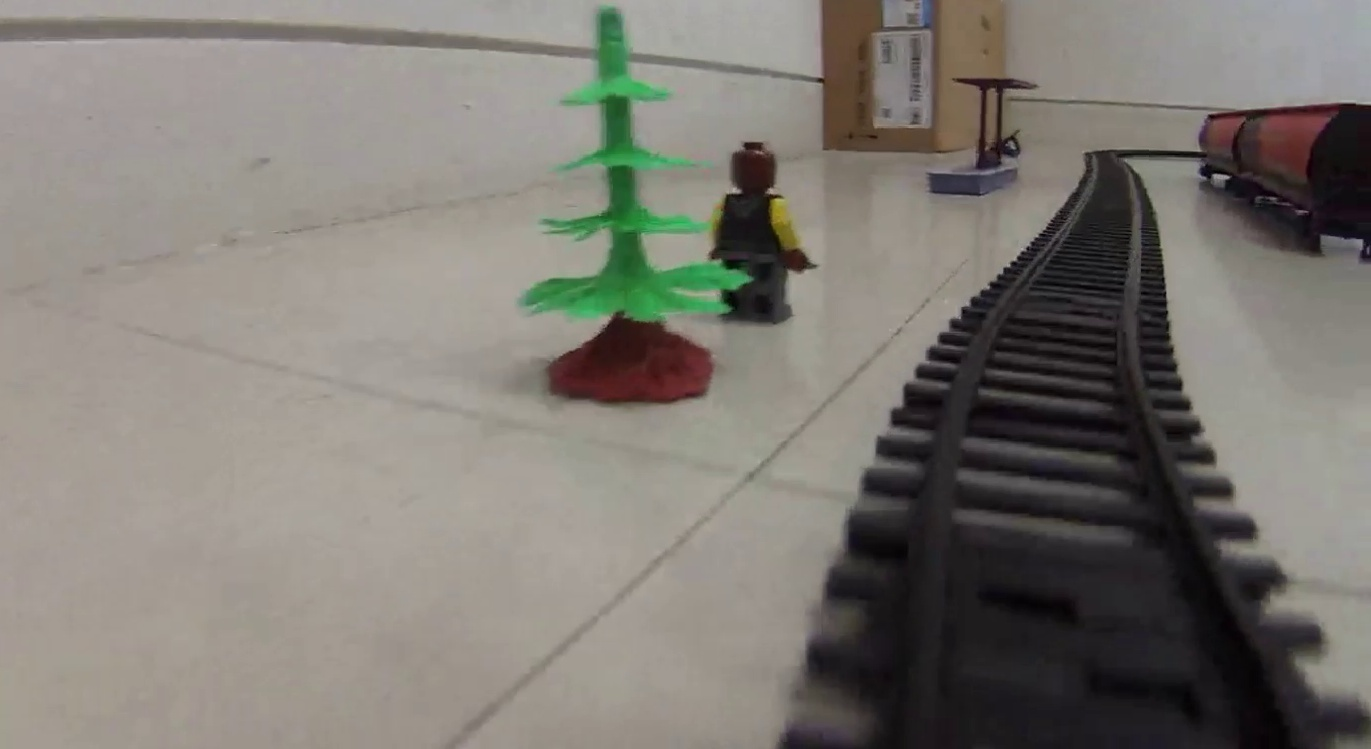people: (709, 142, 812, 323)
tree: (516, 5, 752, 400)
